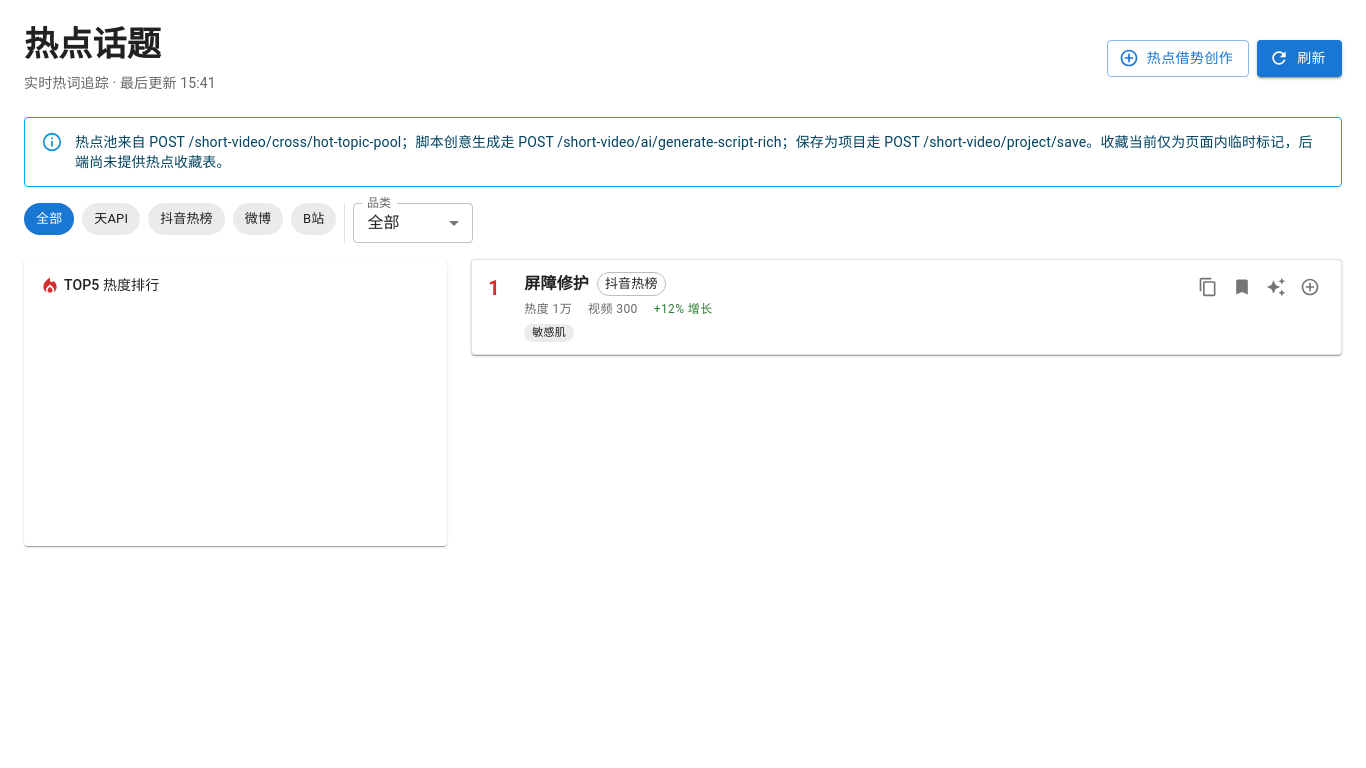
Test: ShortVideo ops pages › HotTopicPage uses real ai script endpoint instead of local template
Expected: the text "脚本创意生成走" is shown, [401,134,557,150]
Expected: the text "屏障修护" is shown, [524,272,589,296]
What coordinates should you click on to do the following:
click the button named "生成脚本创意"
I would click on:
 (1276, 287)
Its box is [1261,272,1291,302].
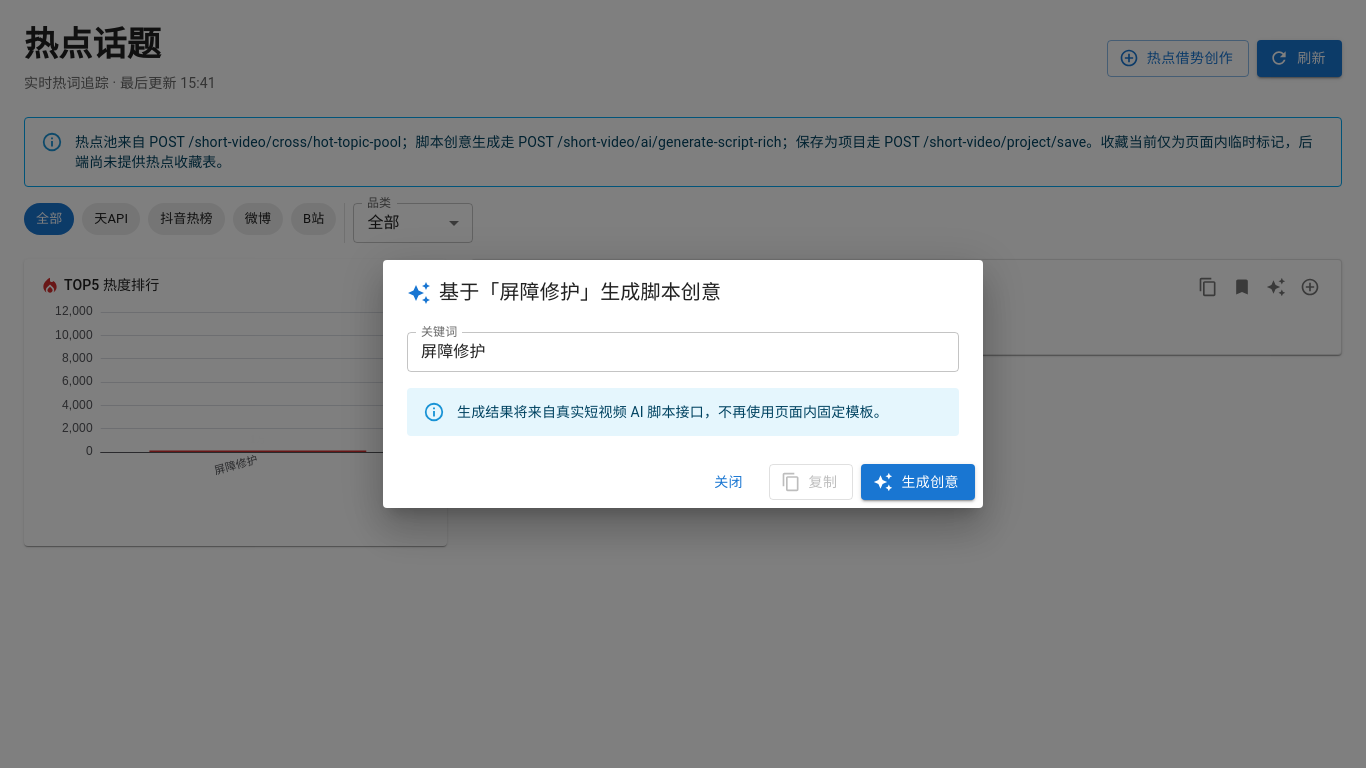
What coordinates should you click on to do the following:
click the button "生成创意"
I would click on:
 (918, 482)
Its box is [861,464,975,500].
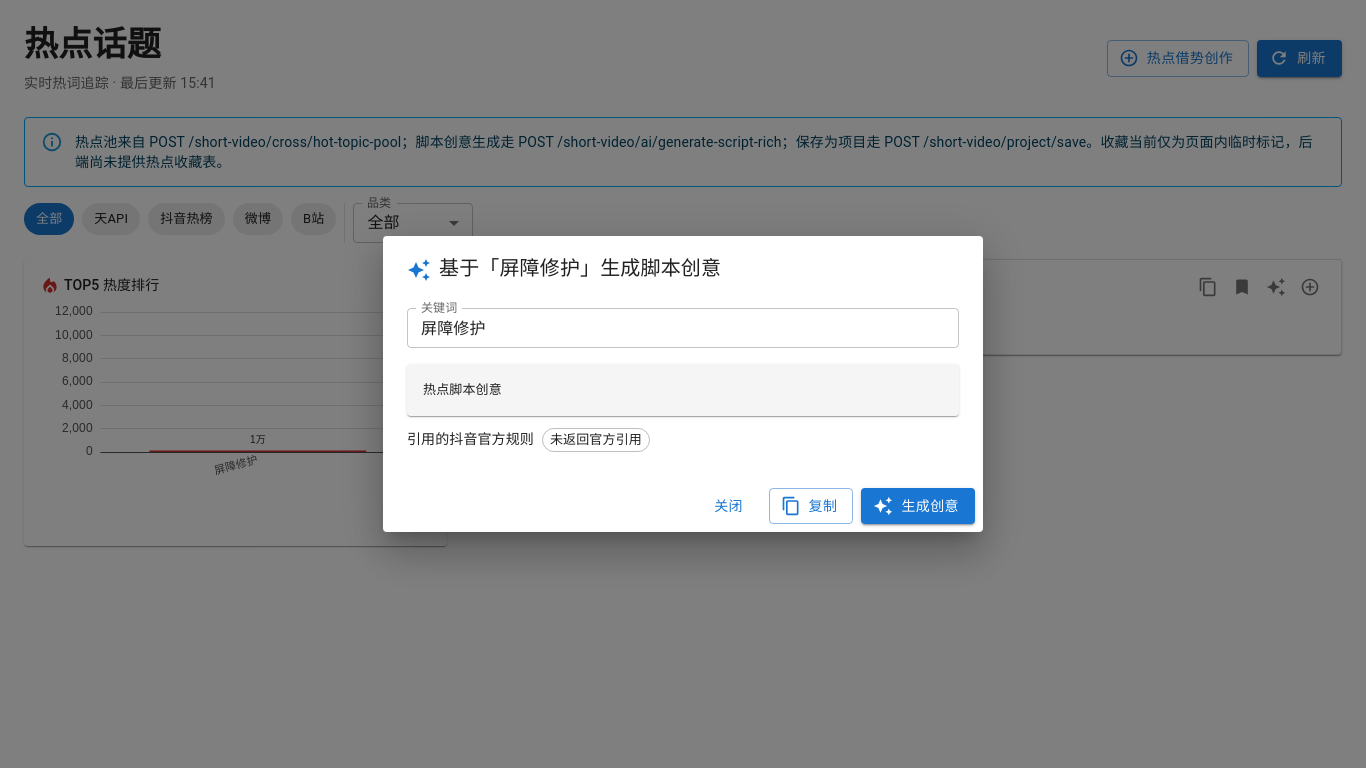
Expected: the text "热点脚本创意" is shown, [407,364,959,416]
